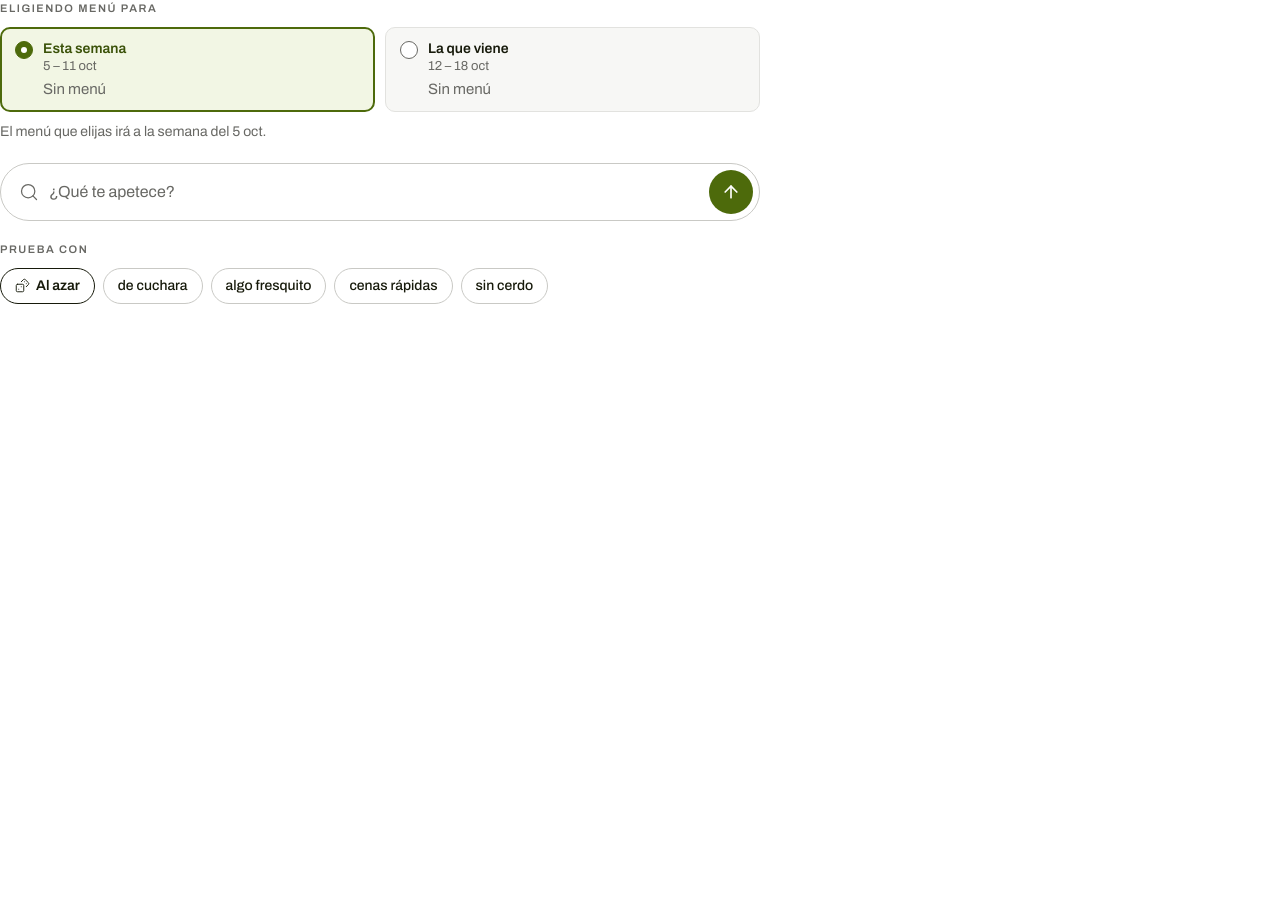
Scenario: PlannerSearch › the week preview › closes with Escape and gives the focus back to the button of the card
This screenshot has width=1280, height=900.
Step 1. Type "garbanzos sin cerdo" into the field → (374, 192), box [49,172,699,212]
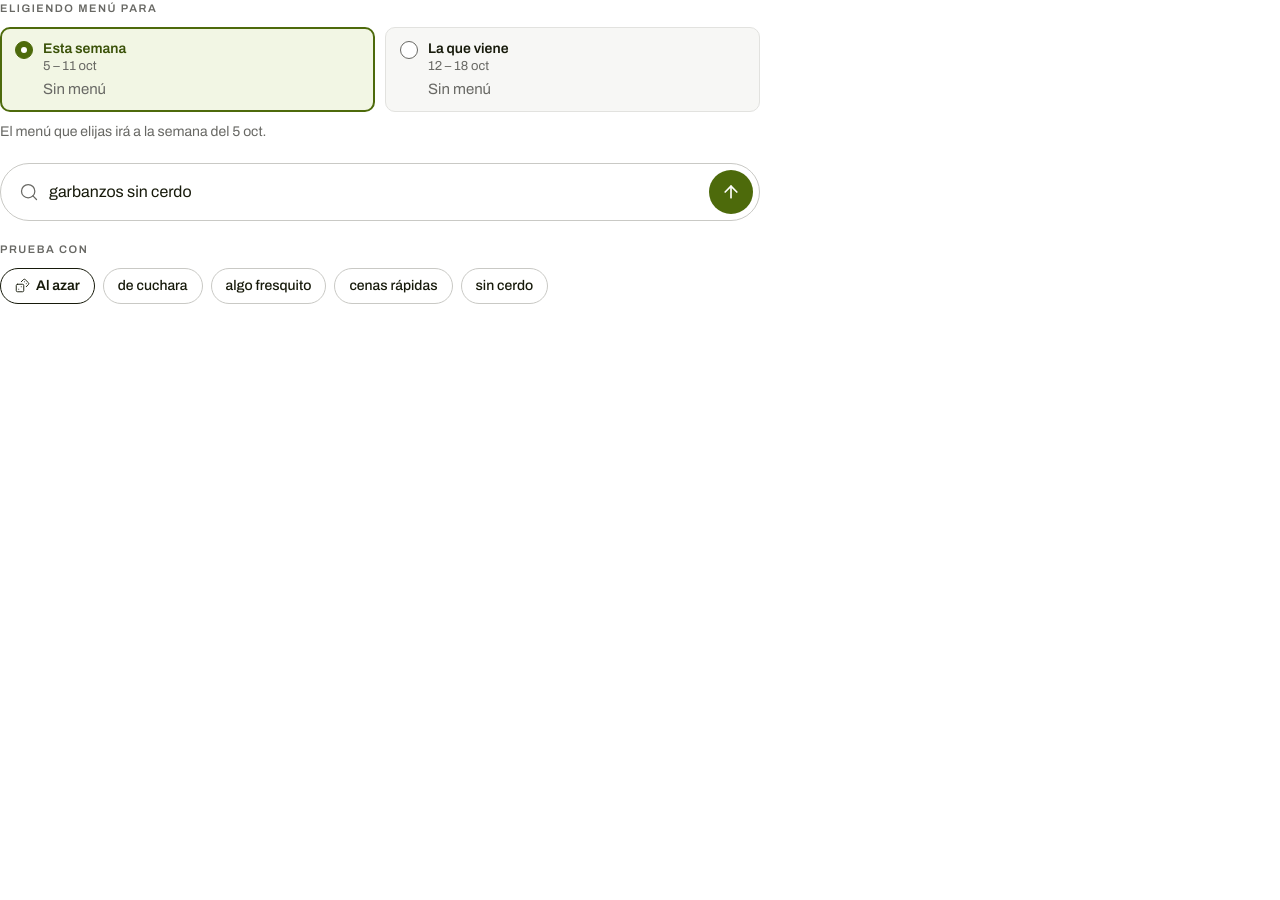
Step 2. Click the button named "Buscar" → (731, 192), box [709,170,753,214]
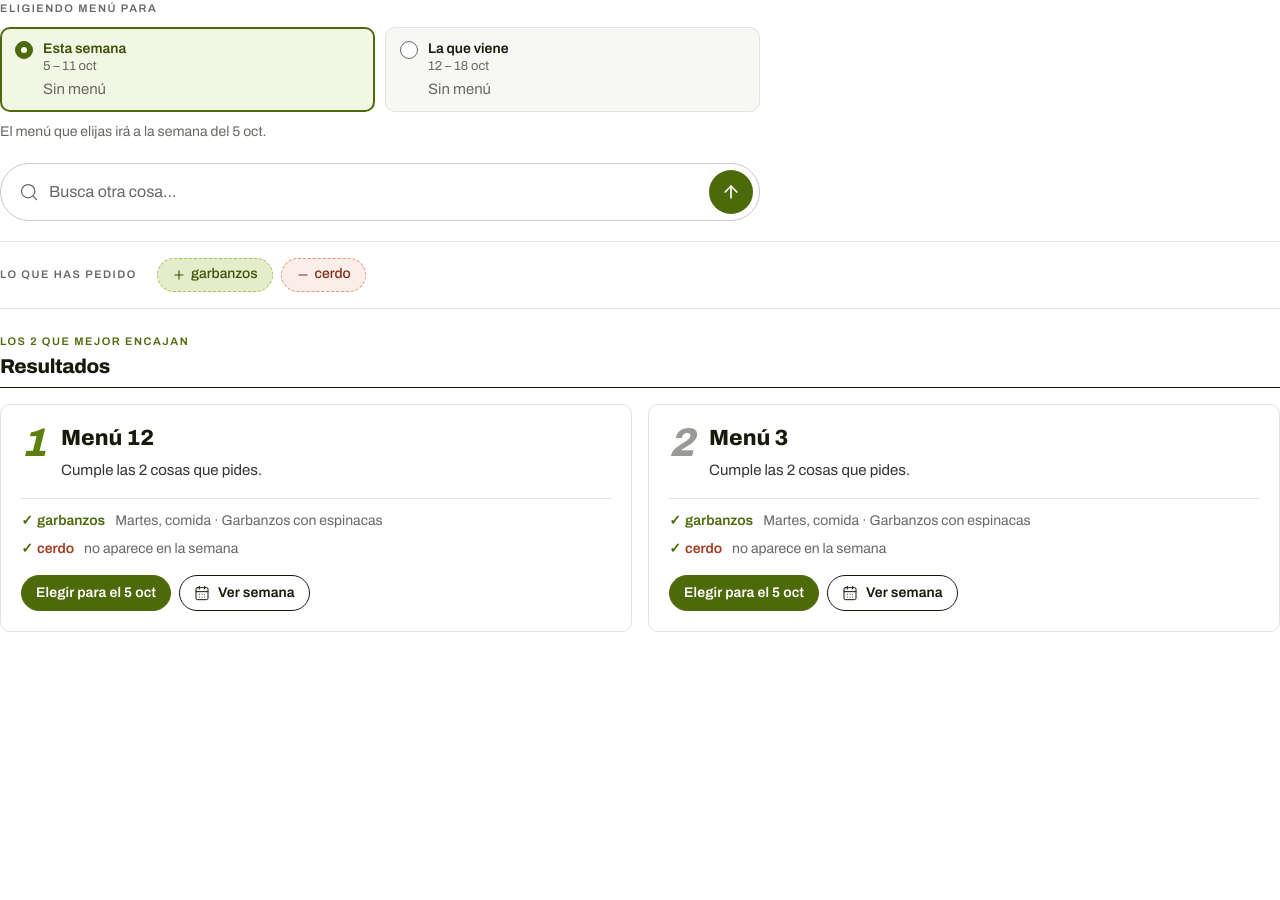
Step 3. Click the button with aria-label "Ver semana del Menú 12" → (244, 592), box [179,574,310,610]
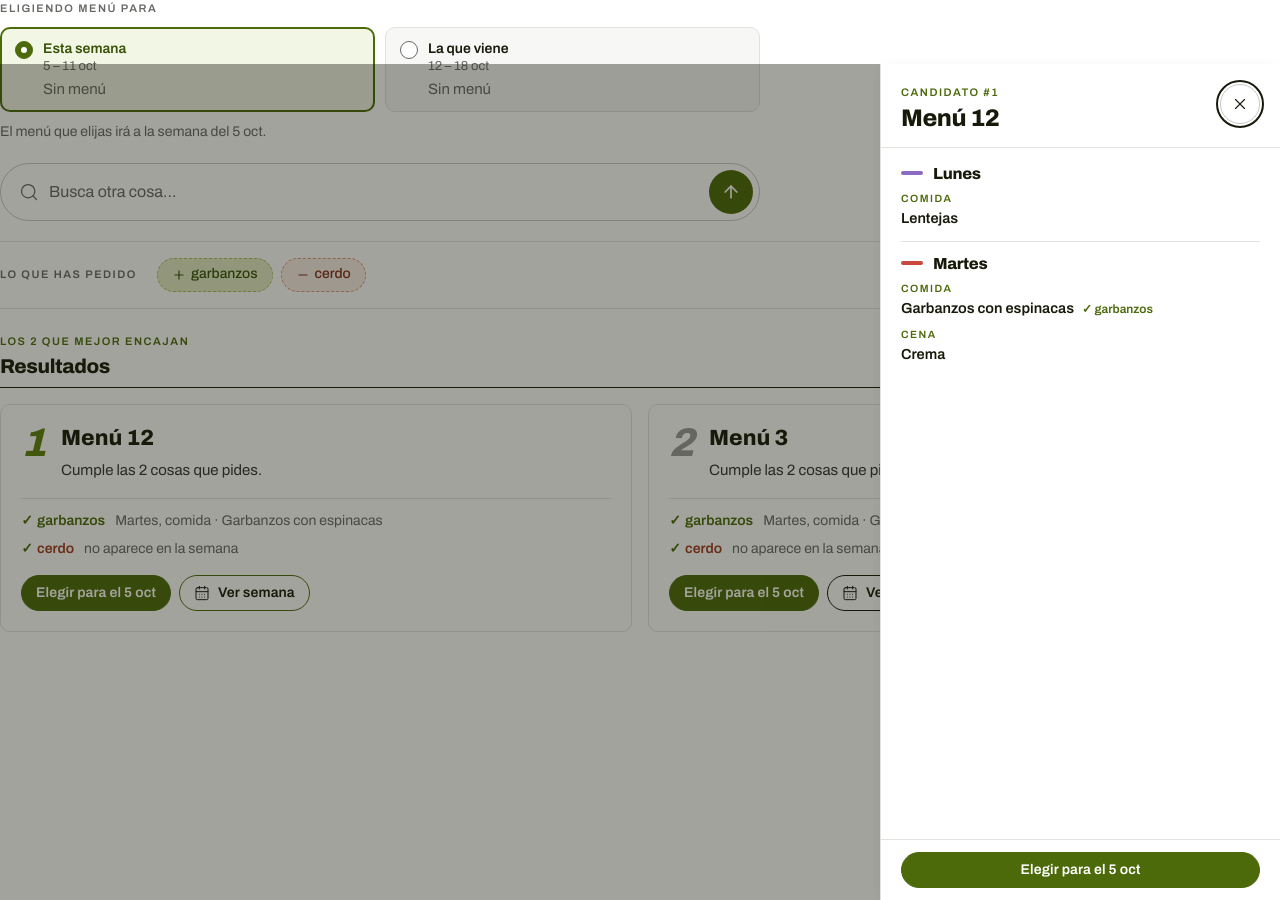
Step 4. Press Escape
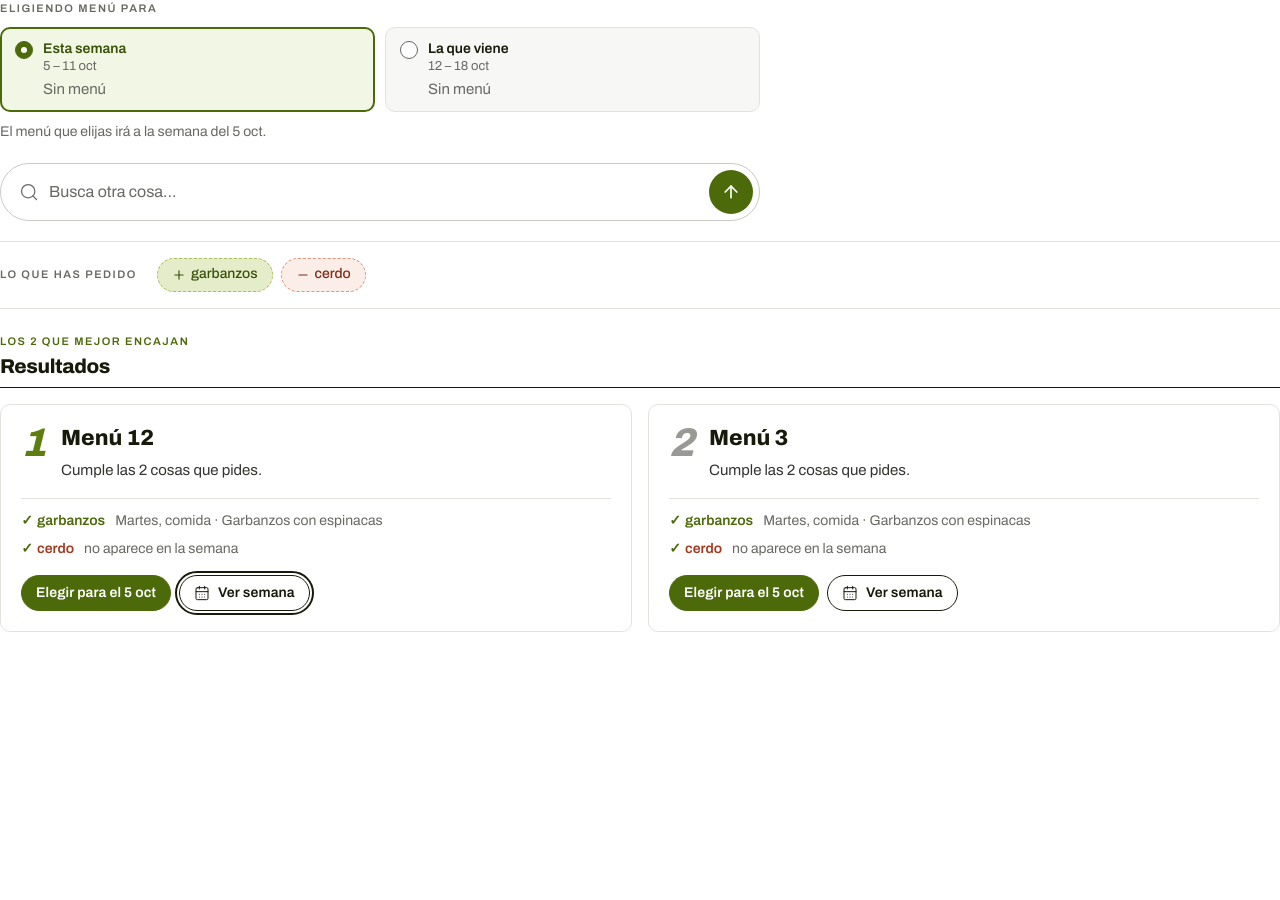
Result: the dialog is gone
